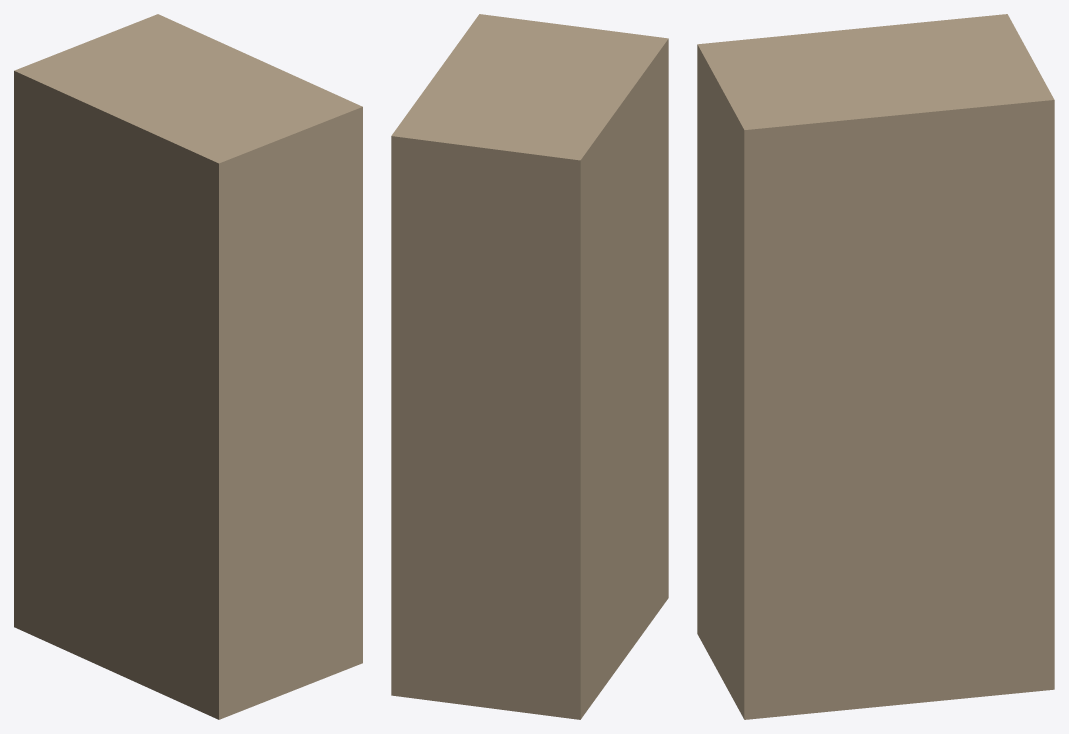
Rendered from bld_393484300.dae.
The picture shows the model from 3 angles, left to right: view 1: azimuth 30°, elevation 25°; view 2: azimuth 150°, elevation 25°; view 3: azimuth 270°, elevation 25°; orthographic projection. The views are drawn at different scales.
Visible parts, largest first — view 1: bld_393484300; view 2: bld_393484300; view 3: bld_393484300.
Boxes of the visible parts, x1,y1,x2,y2 form: bld_393484300: (14, 14, 362, 719); bld_393484300: (391, 14, 668, 719); bld_393484300: (697, 14, 1054, 719).
Bounding box in the file's own units: 3.38 × 4.39 × 8.
